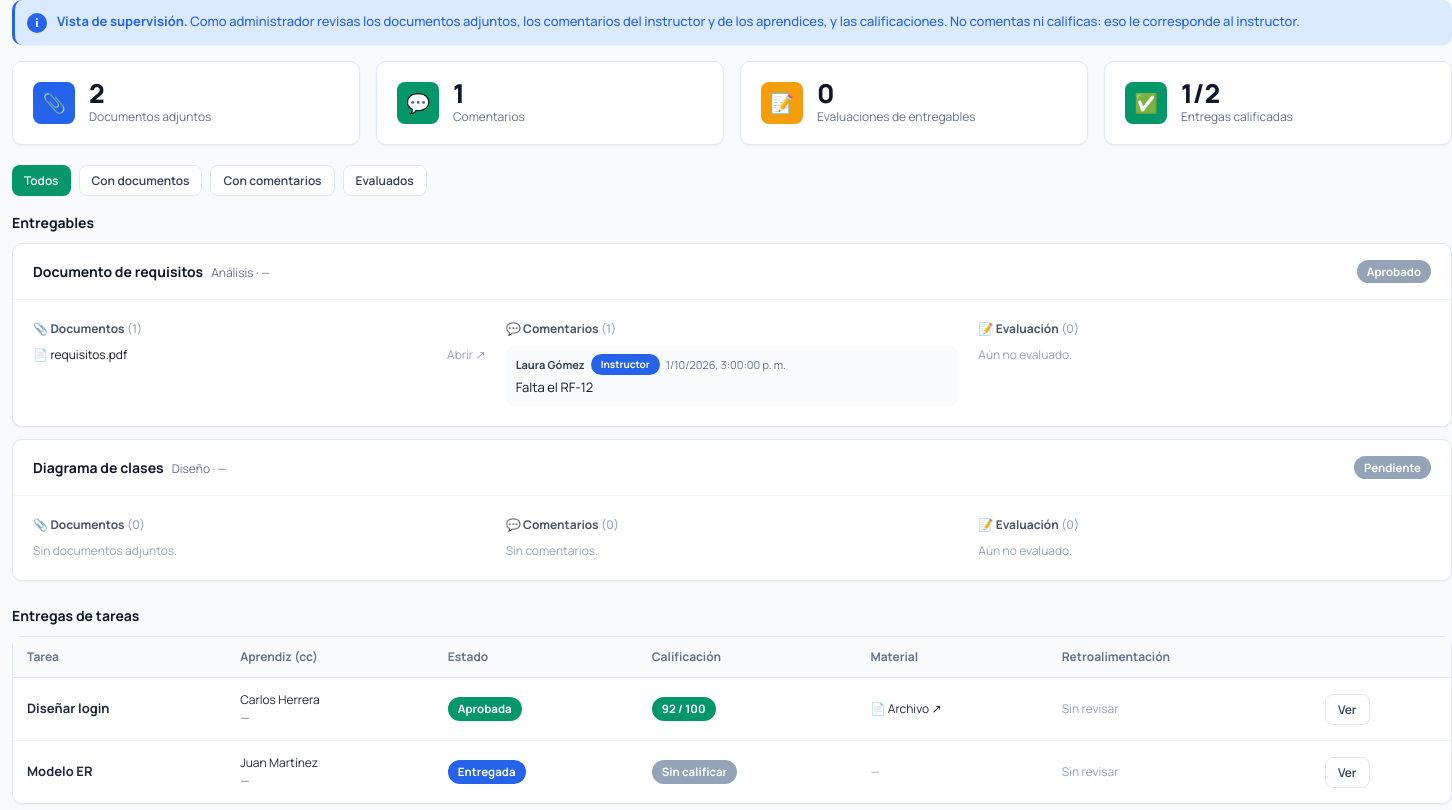
RevisionProyecto › should show the empty state when no deliverable matches the filter
Expected: the text "Documento de requisitos" is shown, [33,262,203,281]
Click the button "Evaluados": (385, 180) [342,165,427,196]
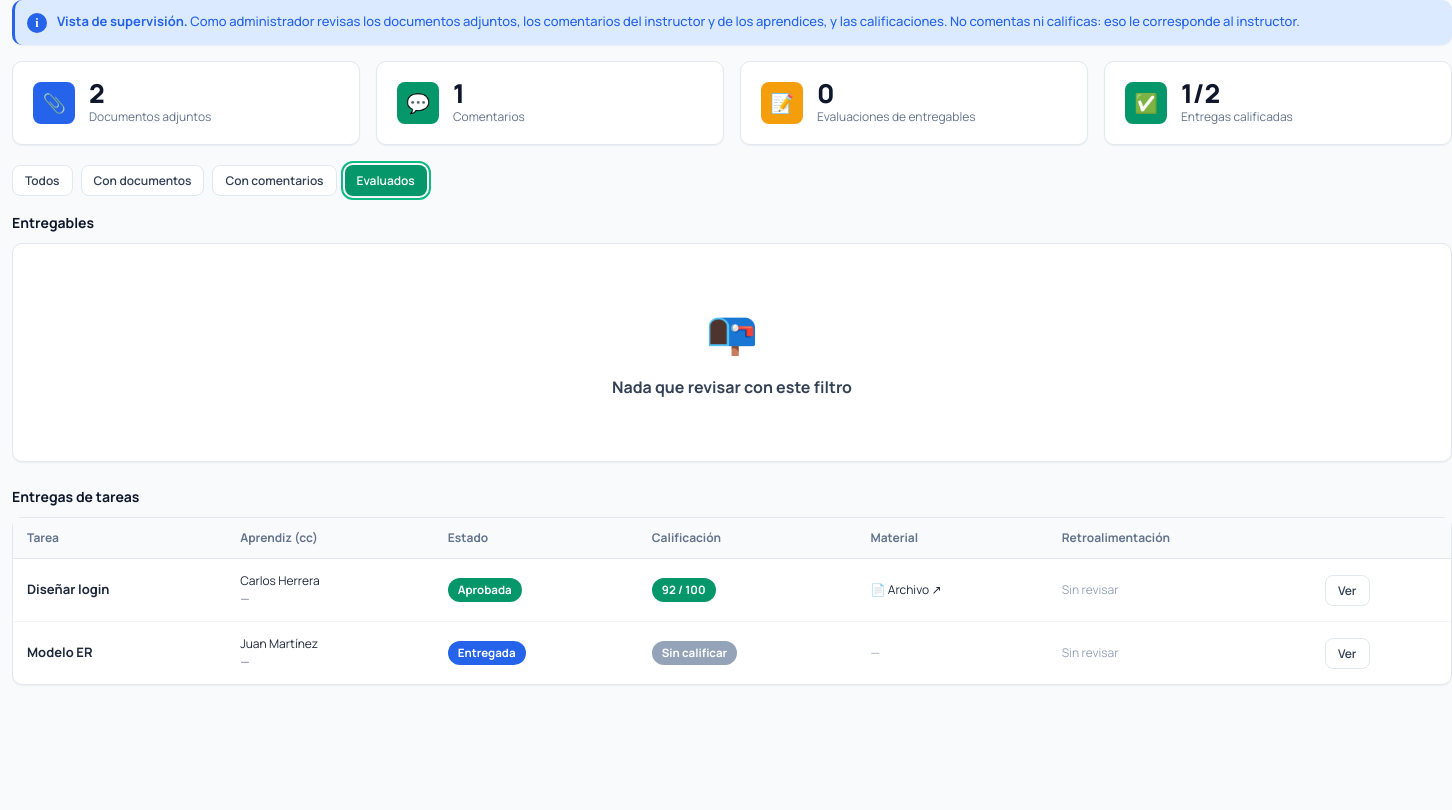
Now the heading "Nada que revisar con este filtro" is shown, box [612,376,852,398]
